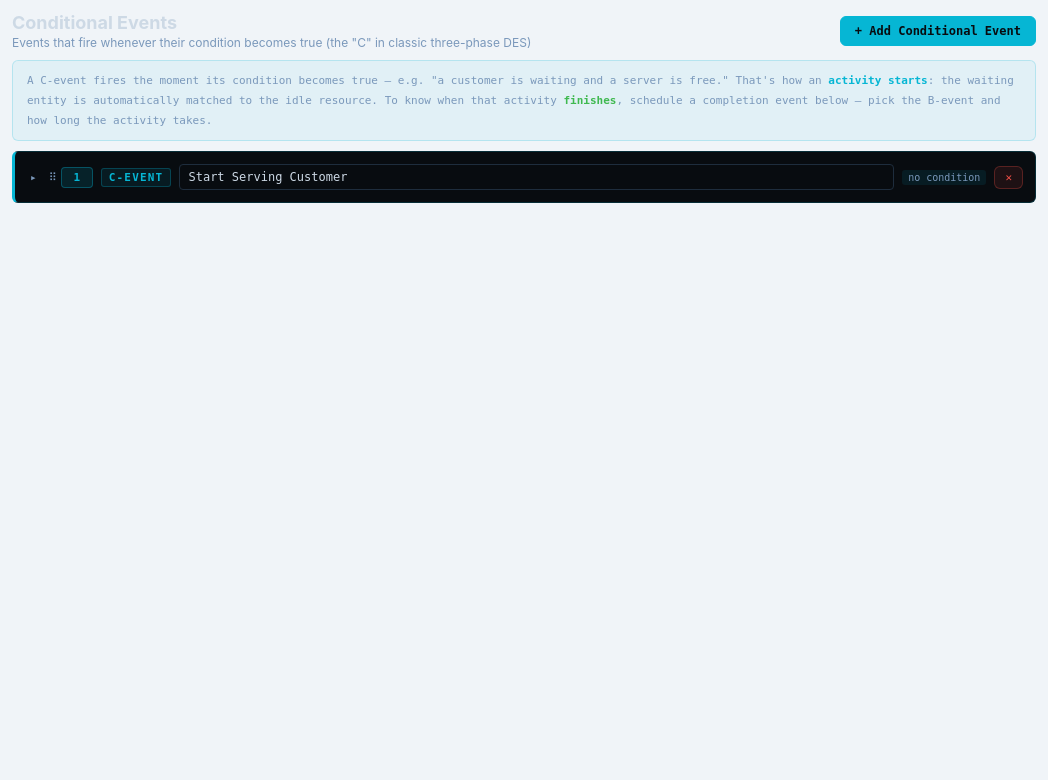
CEventEditor — ConditionBuilder token list staleness (C8) › keeps a newly added conditional clause after the parent model rerenders
Card is collapsed by default — expand it first
Step 1. Click the button named "Expand" → {"x": 33, "y": 177}, box [27,170,40,185]
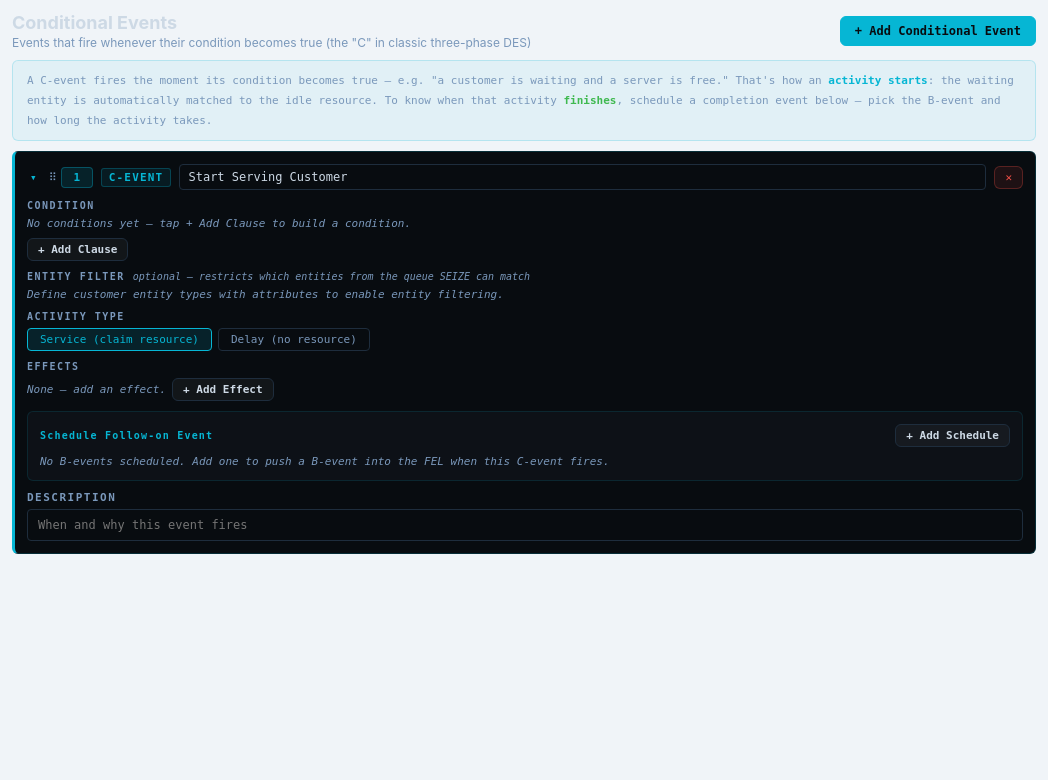
Step 2. Click the button "+ Add Clause" → {"x": 78, "y": 250}, box [27,238,128,261]
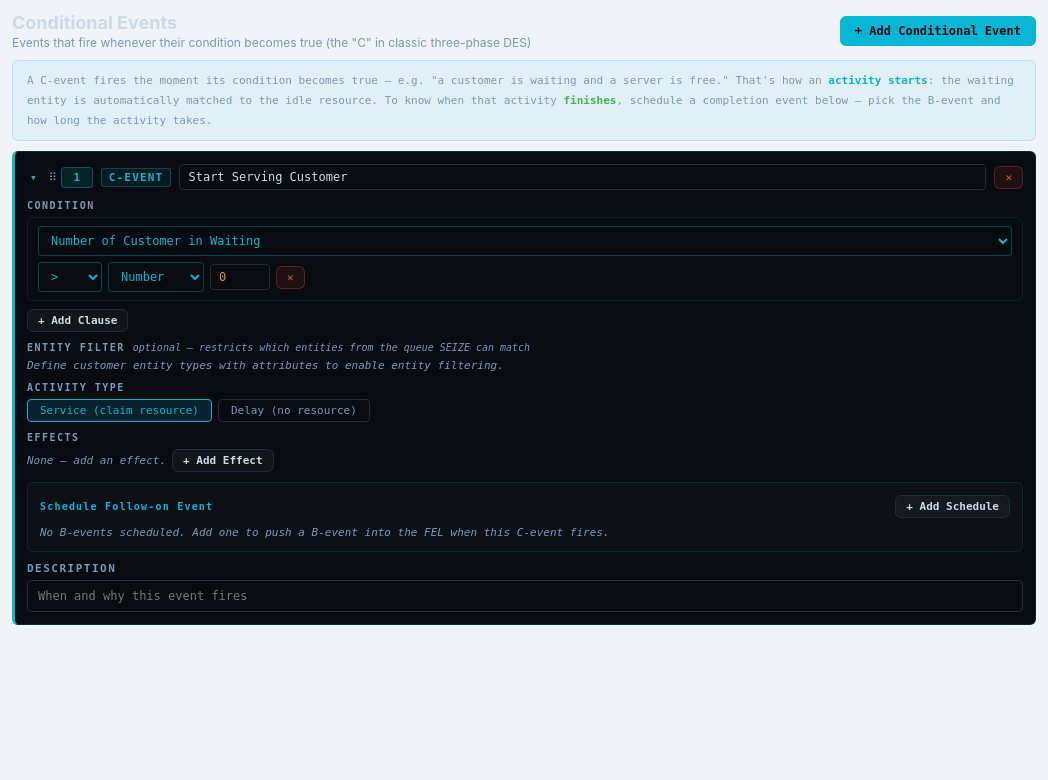
Check: the dropdown named "Number of Customer in Waiting" shows "Number of Customer in Waiting", box [38,226,1012,256]
Check: the number field showing "0" is shown, box [210,264,270,290]
